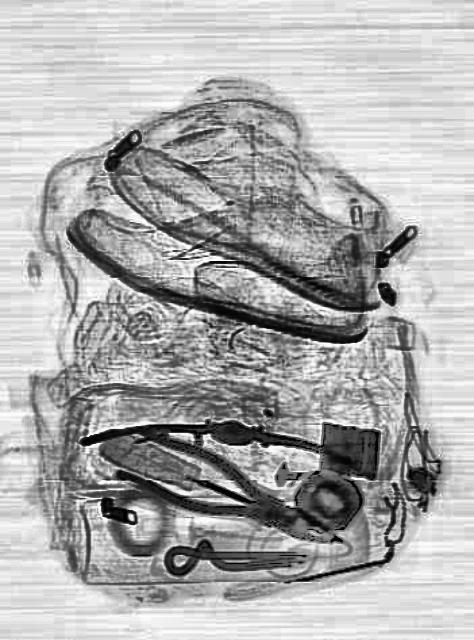Pliers: (113, 414, 341, 566)
